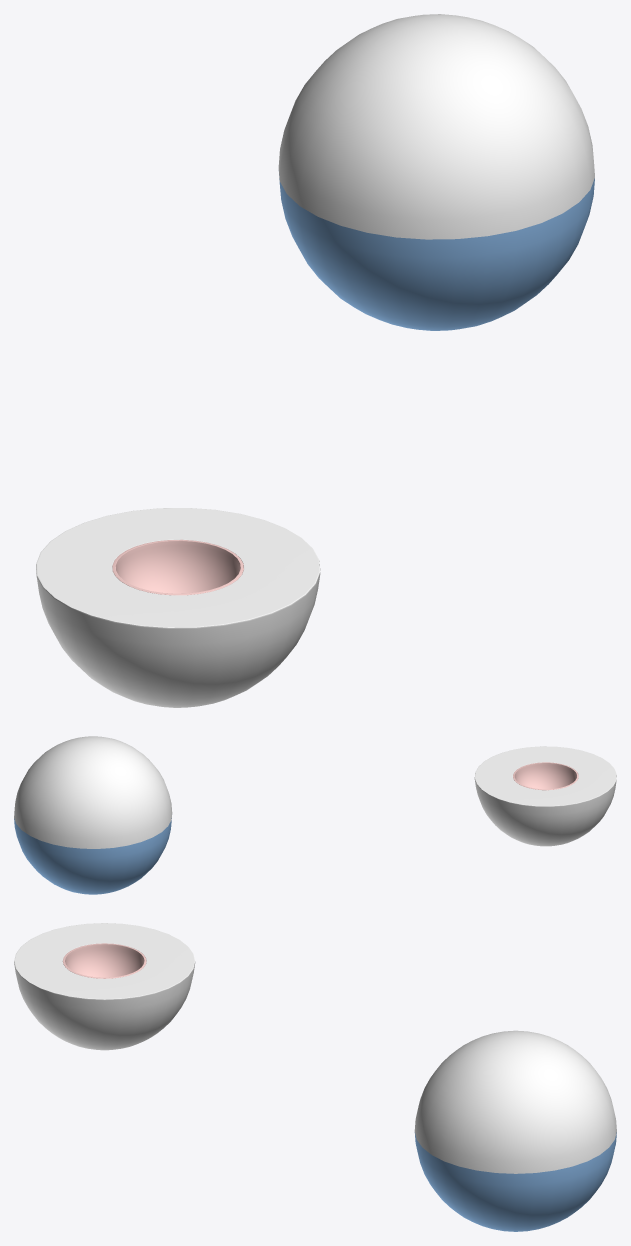
3 views of the same model, one above another, from view 1: azimuth 30°, elevation 25°; view 2: azimuth 150°, elevation 25°; view 3: azimuth 270°, elevation 25° (orthographic). The views are drawn at different scales.
Visible parts, largest first — view 1: Half of the sphere 02, Big half-sphere, Half of the sphere 01, Small half-sphere; view 2: Half of the sphere 02, Big half-sphere, Half of the sphere 01, Small half-sphere; view 3: Half of the sphere 02, Big half-sphere, Half of the sphere 01, Small half-sphere.
Boxes of the visible parts, box(x1,y1,x2,y2) form: Half of the sphere 02: box(278, 14, 594, 239); Big half-sphere: box(36, 508, 320, 707); Half of the sphere 01: box(279, 174, 594, 330); Small half-sphere: box(112, 539, 243, 595); Half of the sphere 02: box(14, 736, 172, 848); Big half-sphere: box(474, 746, 616, 846); Half of the sphere 01: box(14, 818, 171, 894); Small half-sphere: box(513, 762, 578, 790); Half of the sphere 02: box(414, 1030, 616, 1173); Big half-sphere: box(14, 923, 195, 1050); Half of the sphere 01: box(414, 1132, 616, 1231); Small half-sphere: box(62, 943, 146, 978).
Size of what is drawn, in the model's own units: 0.1535 by 0.05 by 0.1496.
